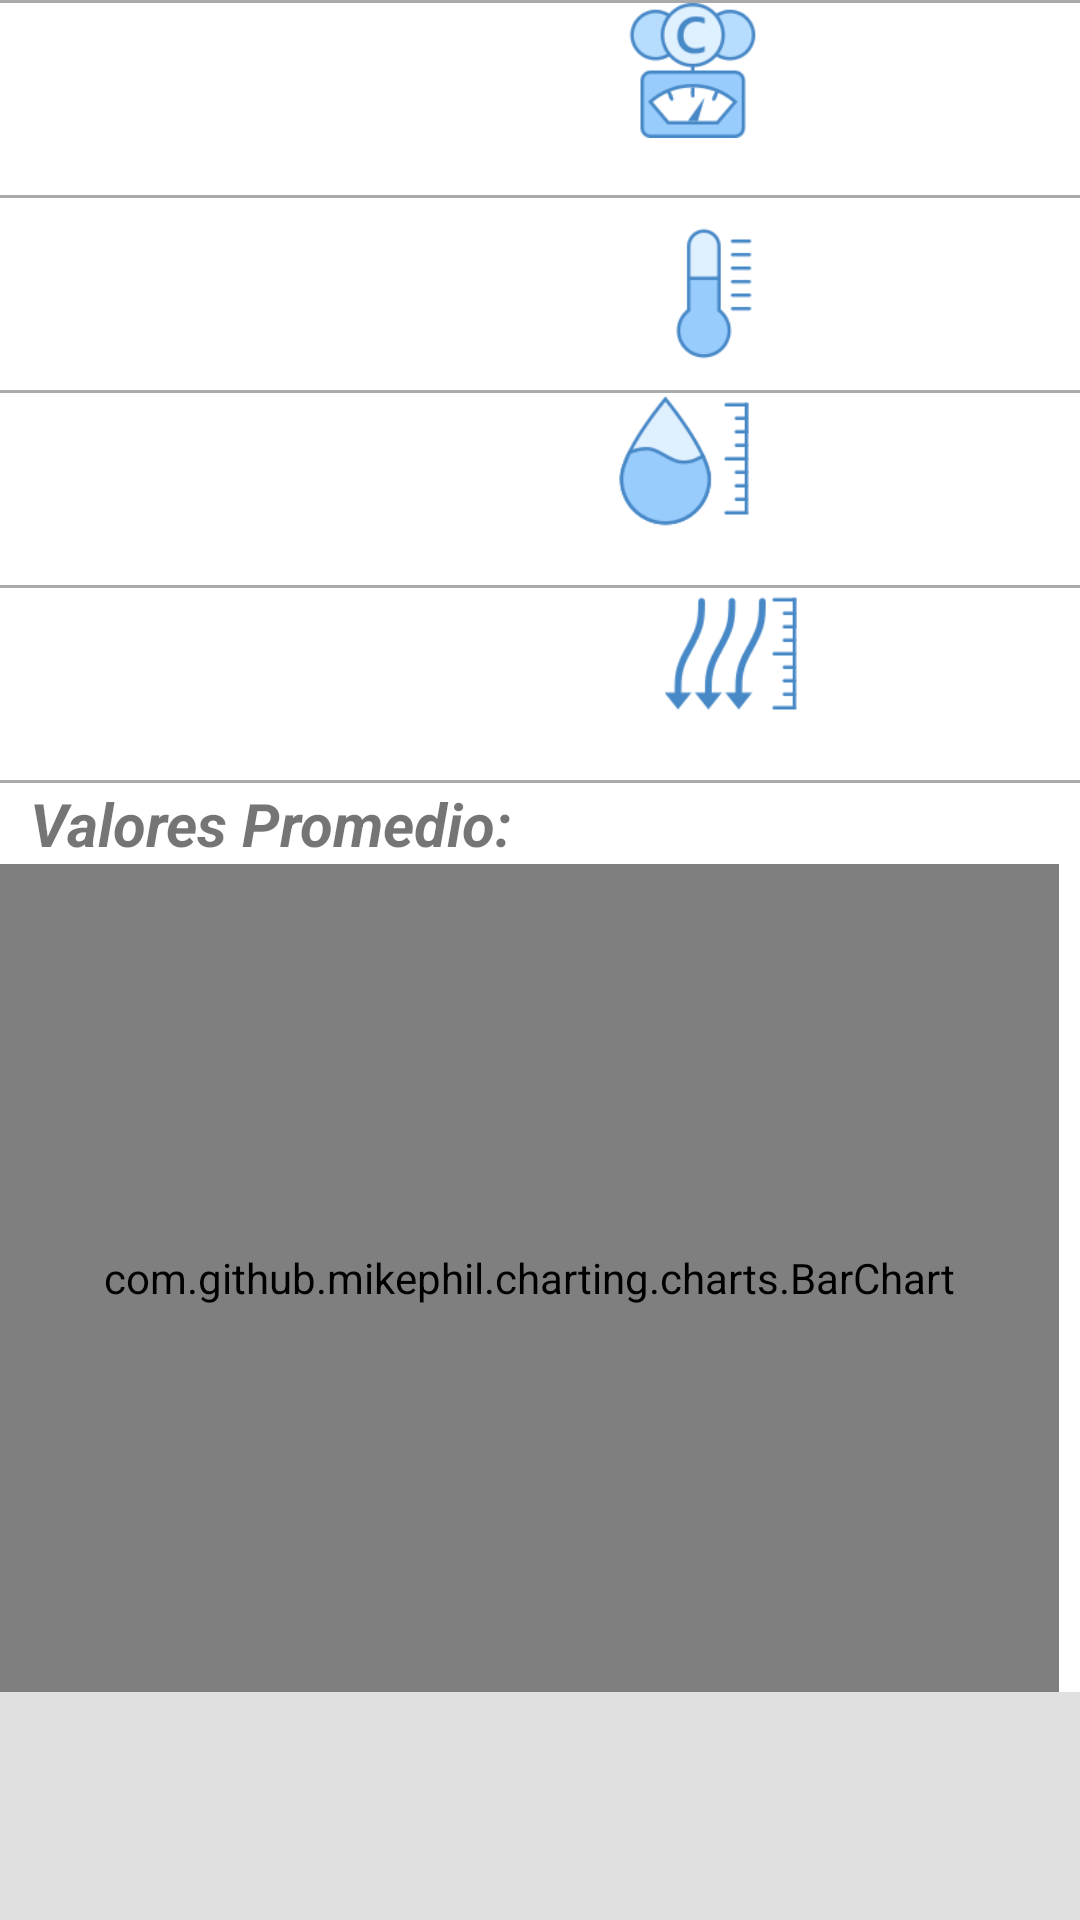

Named icons in this screenshot (1080 × 1920) and their bounding boxes, bbox=[x1, y1, x2, y2]:
hume: bbox=[619, 396, 749, 526]
